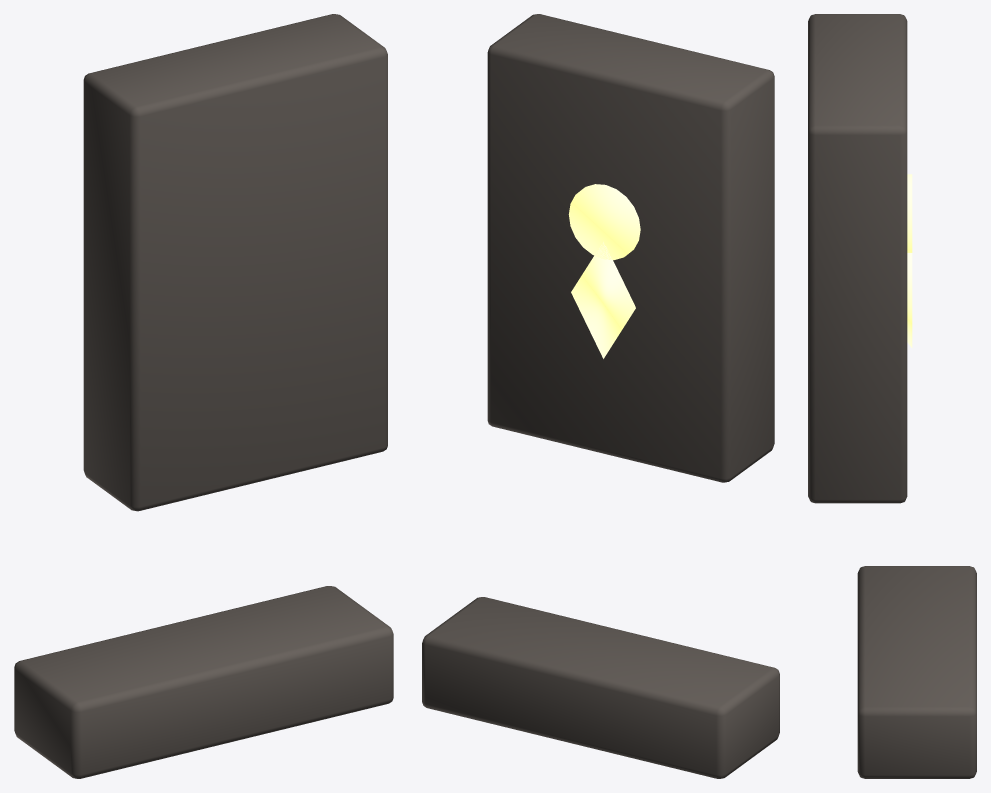
The model's file is key_niche.glb.
3 views of the same model, side by side, from view 1: azimuth 30°, elevation 25°; view 2: azimuth 150°, elevation 25°; view 3: azimuth 270°, elevation 25° (orthographic). The views are drawn at different scales.
Visible parts, largest first — view 1: Frame, Step; view 2: Frame, Step, HoleTop, HoleFoot; view 3: Frame, Step, HoleFoot, HoleTop.
Part boxes in pixels (box(x1,y1,x2,y2)): Frame: box(83, 14, 387, 511); Step: box(14, 586, 393, 778); Frame: box(487, 14, 774, 482); Step: box(422, 597, 779, 778); HoleTop: box(568, 184, 640, 260); HoleFoot: box(571, 242, 635, 358); Frame: box(808, 14, 907, 503); Step: box(857, 566, 976, 778); HoleFoot: box(907, 253, 912, 347); HoleTop: box(907, 174, 912, 252).
Size of the model in its own units: 0.7 by 1.42 by 0.34.
